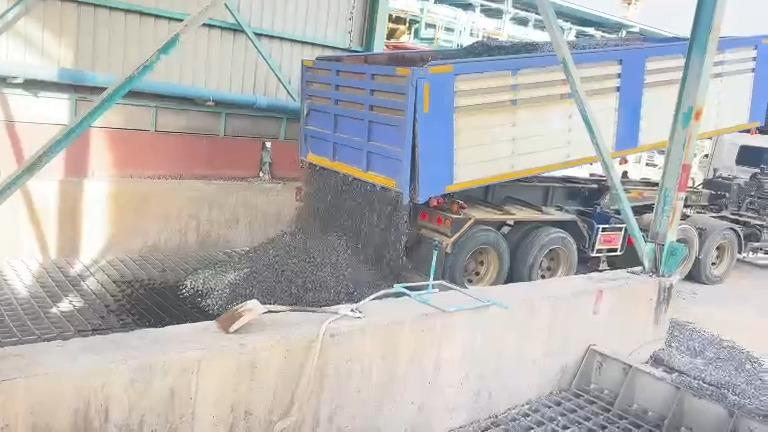gravel: (182, 169, 409, 312), (649, 319, 767, 419), (427, 39, 553, 60), (568, 38, 650, 51)
